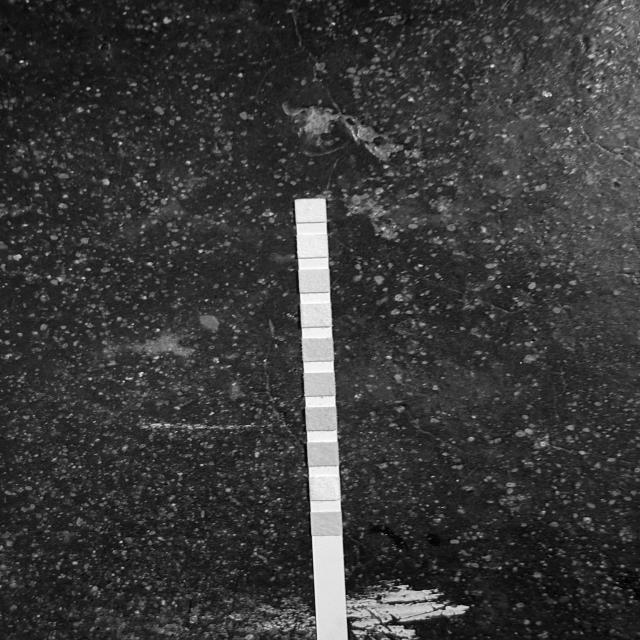Bilirubin: (312, 478, 338, 500)
Blood: (306, 374, 334, 395)
Glucose: (313, 512, 340, 534)
Ketone: (310, 444, 338, 464)
Leukocytes: (297, 200, 324, 222)
Nitrite: (299, 236, 326, 257)
Protein: (302, 306, 329, 326)
SpGravity: (308, 408, 336, 430)
Urobilinogen: (301, 270, 328, 292)
background: (0, 0, 640, 640)
pH: (304, 340, 332, 360)
strip: (294, 199, 347, 621)
